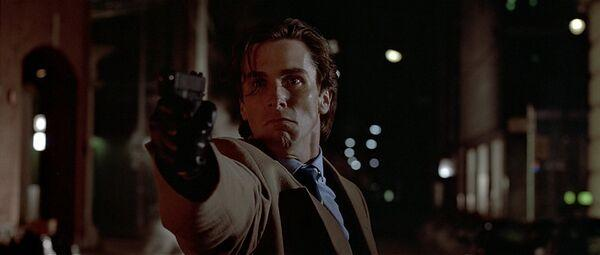Gun: (156, 68, 206, 108)
